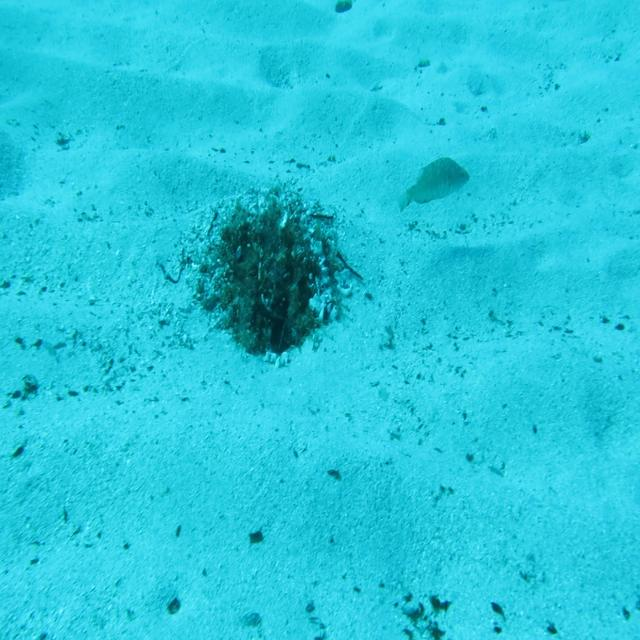SA: (396, 141, 474, 231)
nest: (195, 182, 360, 366)
